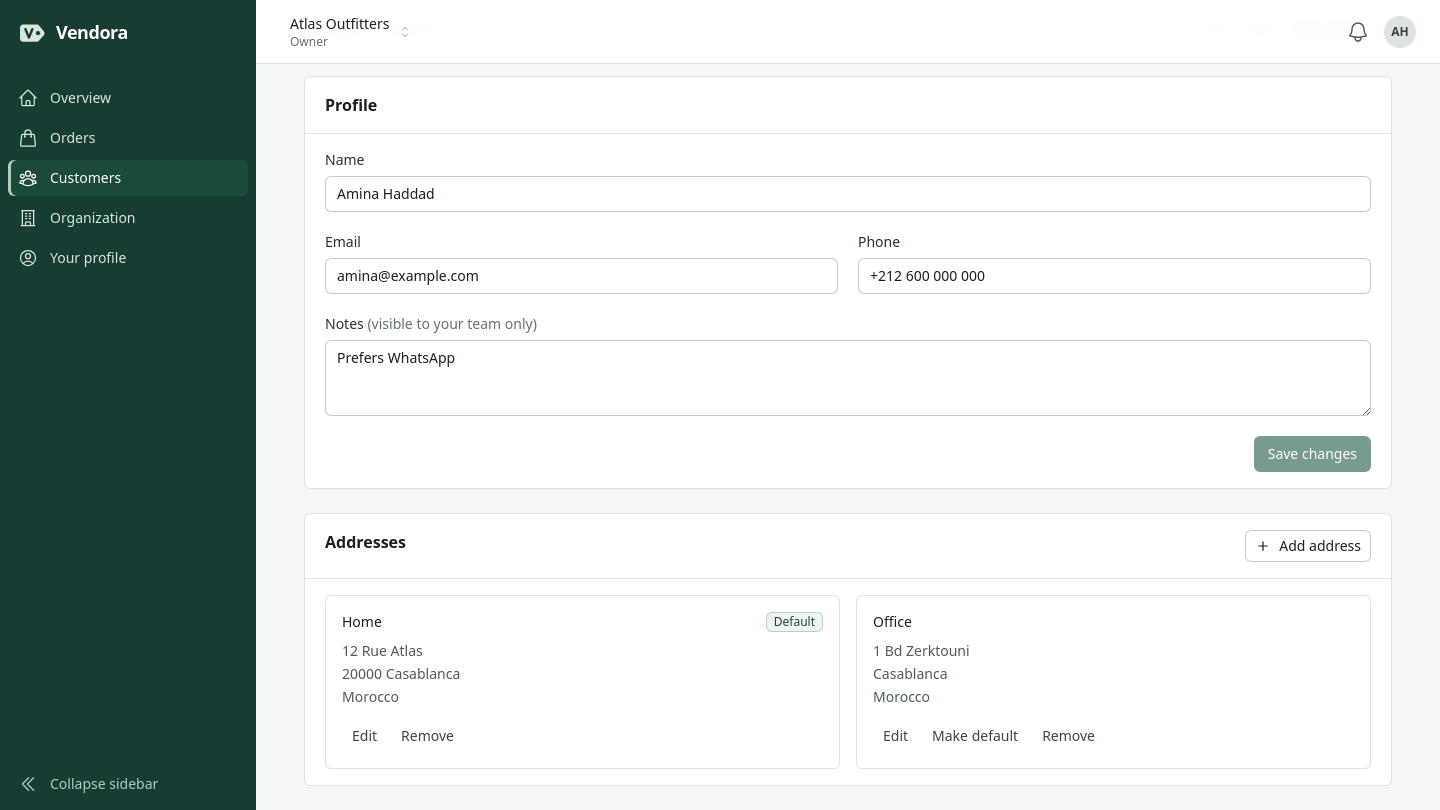
Scenario: customer detail › a new address needs a street, a city and a country
(page scrolled)
What coordinates should you click on to do the following:
click the button "Add address"
I would click on:
 (1308, 546)
Its box is [1245,530,1371,562].
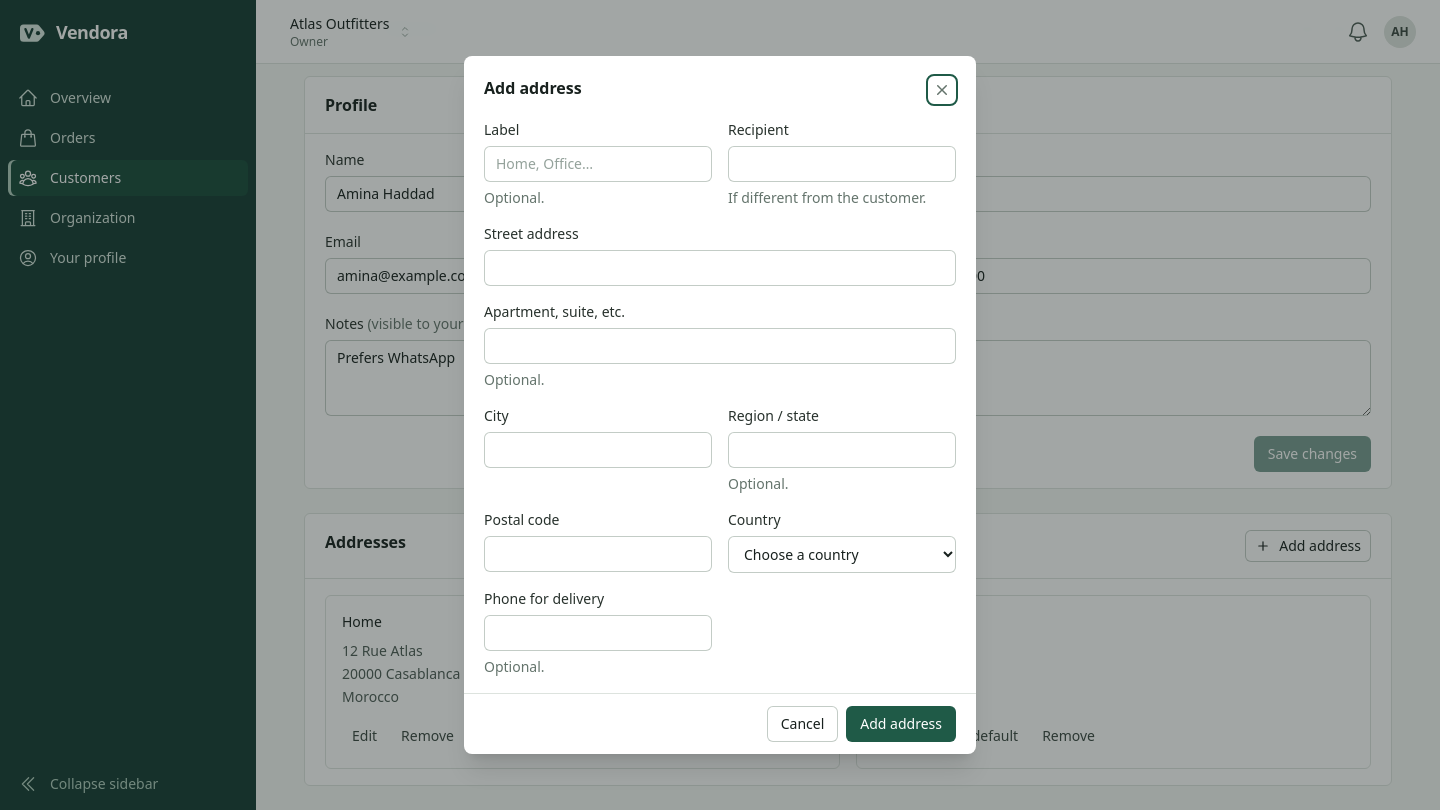
What coordinates should you click on to do the following:
click the button "Add address"
I would click on:
 (901, 724)
Its box is [846,706,956,742].
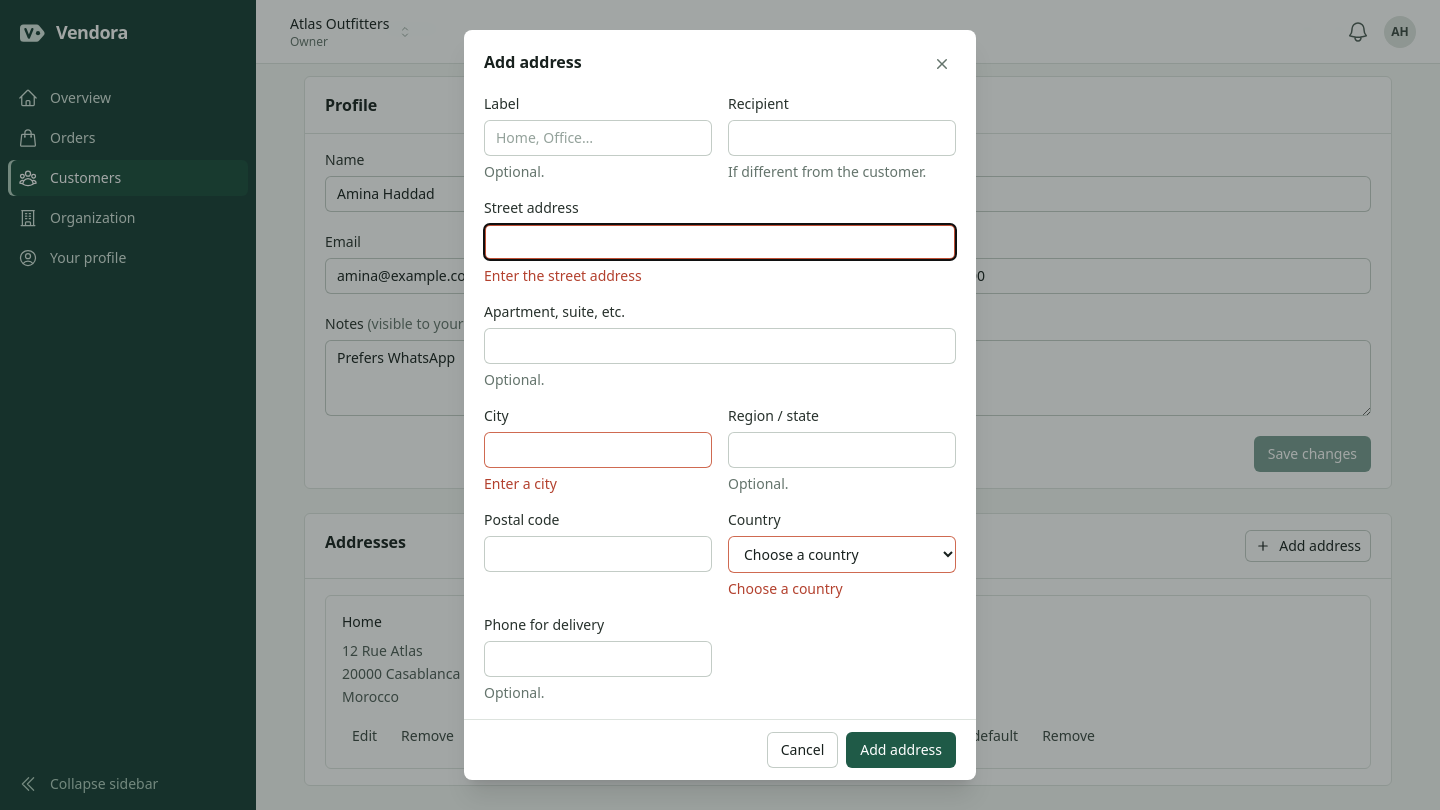
Expected: the text "Enter the street address" is shown, [484,266,642,285]
Expected: the text "Enter a city" is shown, [484,474,557,493]
Expected: the text "Choose a country" is shown, [728,579,843,598]
